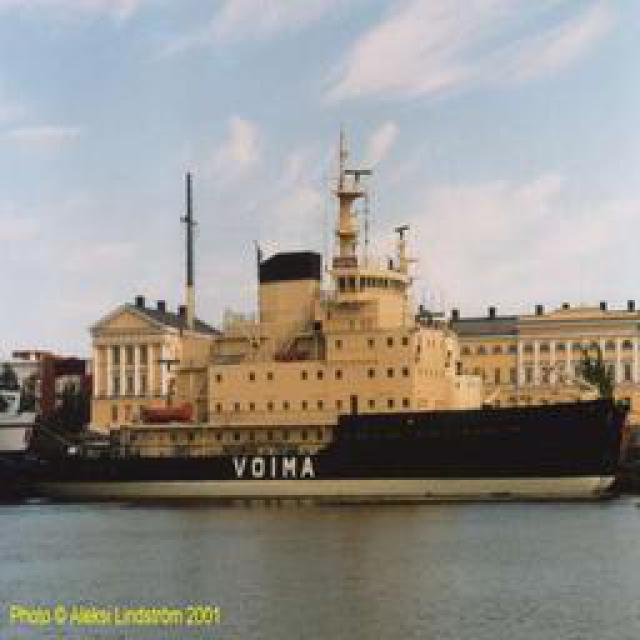Ship: (1, 367, 39, 457)
